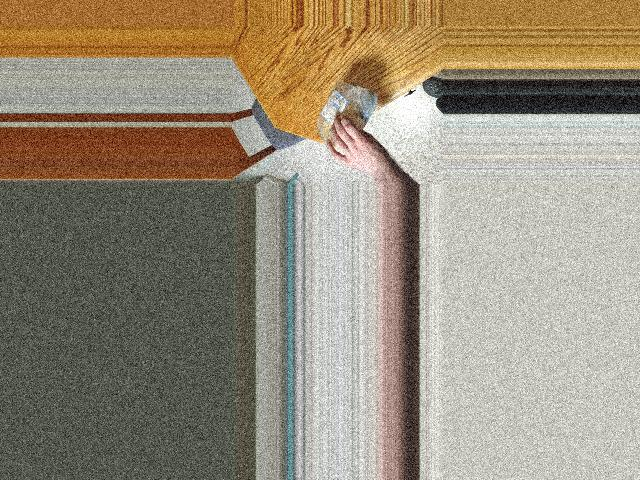cheese: (320, 87, 360, 144)
